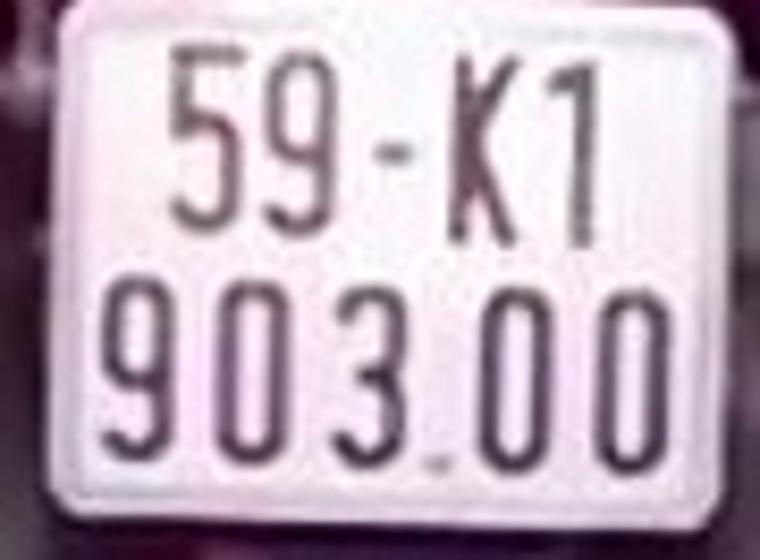-: (370, 131, 421, 179)
.: (415, 447, 459, 485)
0: (204, 267, 302, 479), (588, 275, 681, 482), (477, 276, 562, 484)
1: (532, 48, 620, 261)
3: (329, 267, 422, 482)
5: (161, 40, 250, 240)
9: (81, 268, 190, 468), (262, 40, 344, 244)
K: (448, 40, 528, 256)
